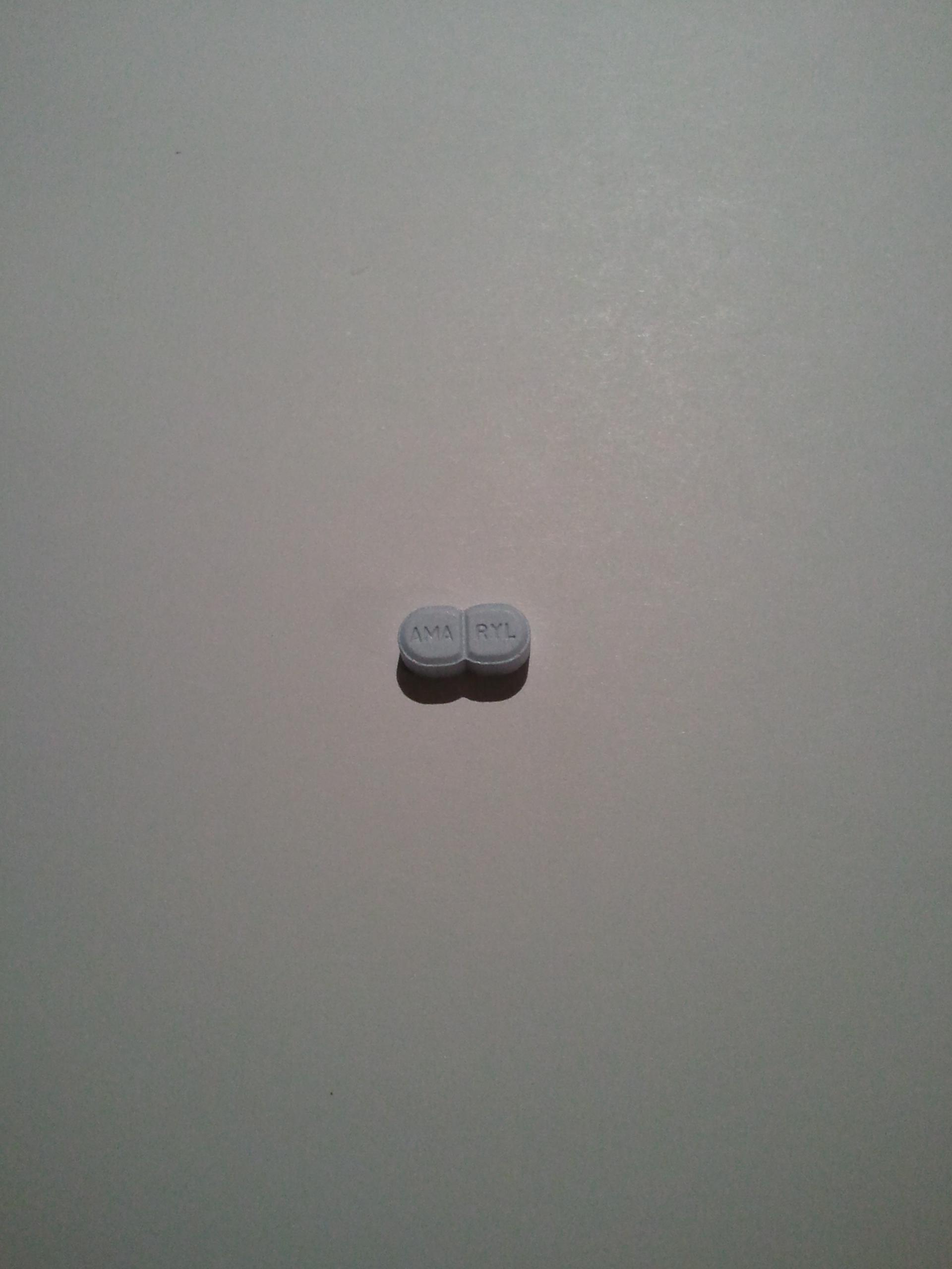Pill: (384, 592, 539, 701)
